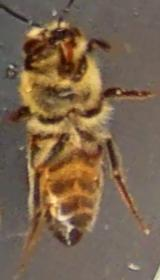varroa_mite: (78, 127, 112, 164)
